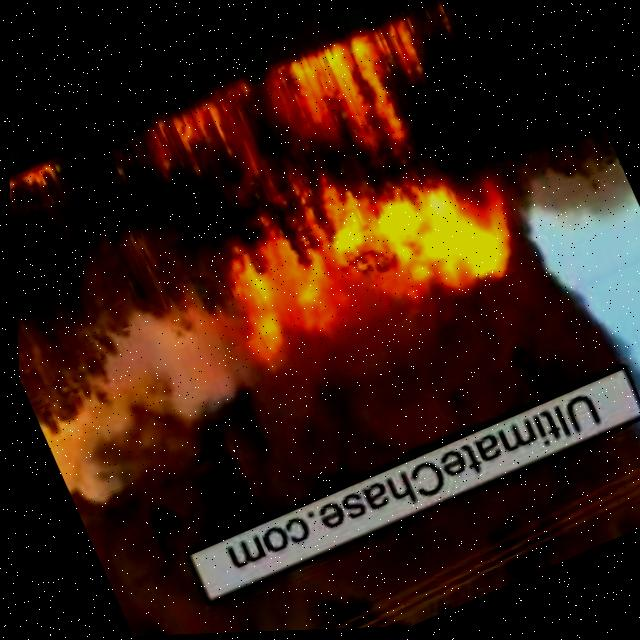Fire: (140, 6, 532, 384), (7, 160, 67, 216)
